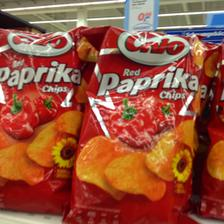Chips: (71, 26, 203, 222), (0, 27, 82, 213)
